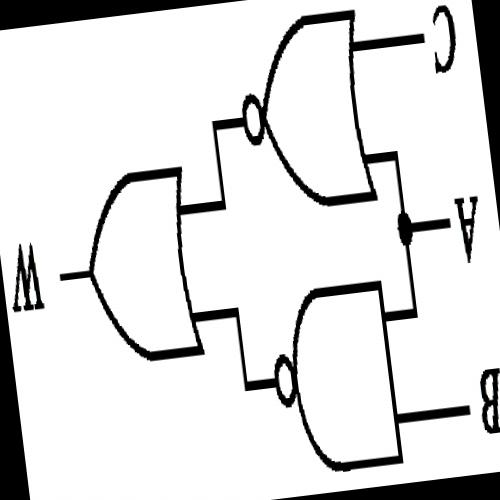nand: (256, 262, 411, 486)
nor: (221, 0, 384, 224)
or: (67, 142, 210, 387)
